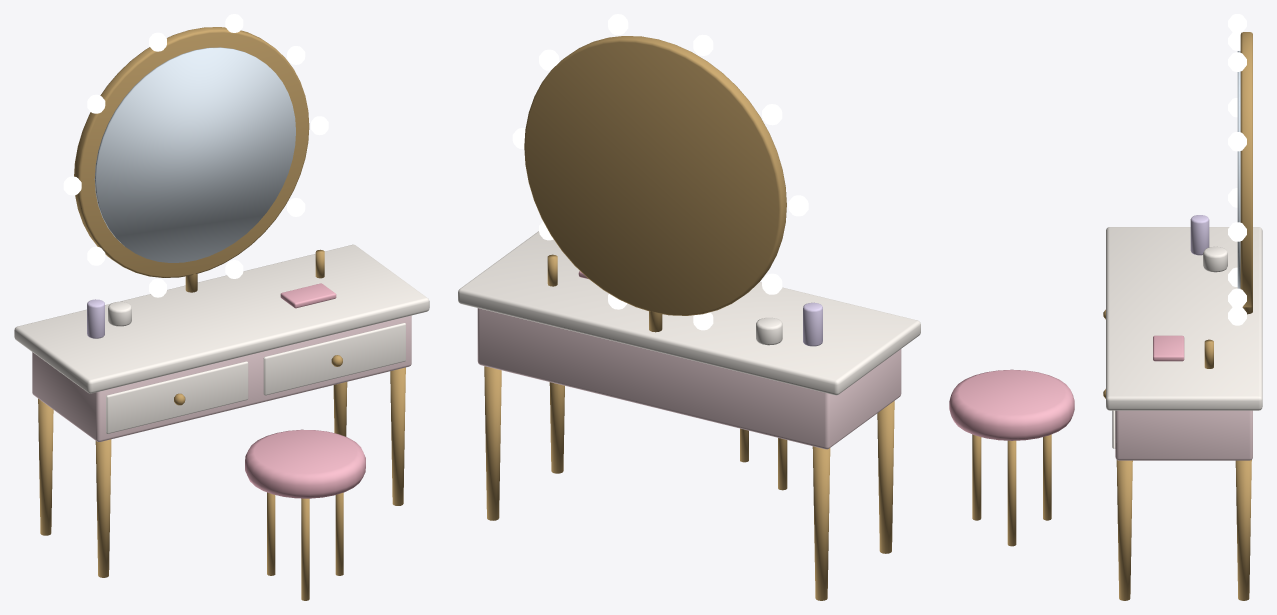
Rendered from furn_vanity.glb.
3 views of the same model, side by side, from view 1: azimuth 30°, elevation 25°; view 2: azimuth 150°, elevation 25°; view 3: azimuth 270°, elevation 25° (orthographic). The views are drawn at different scales.
Parts seen in each view (by area): view 1: Cone; view 2: Cone; view 3: Cone.
Part boxes in pixels (bbox=[...]): Cone: bbox=[14, 14, 429, 600]; Cone: bbox=[458, 14, 920, 600]; Cone: bbox=[949, 14, 1262, 600].
Size of the model in its own units: 1.3 by 1.74 by 1.
